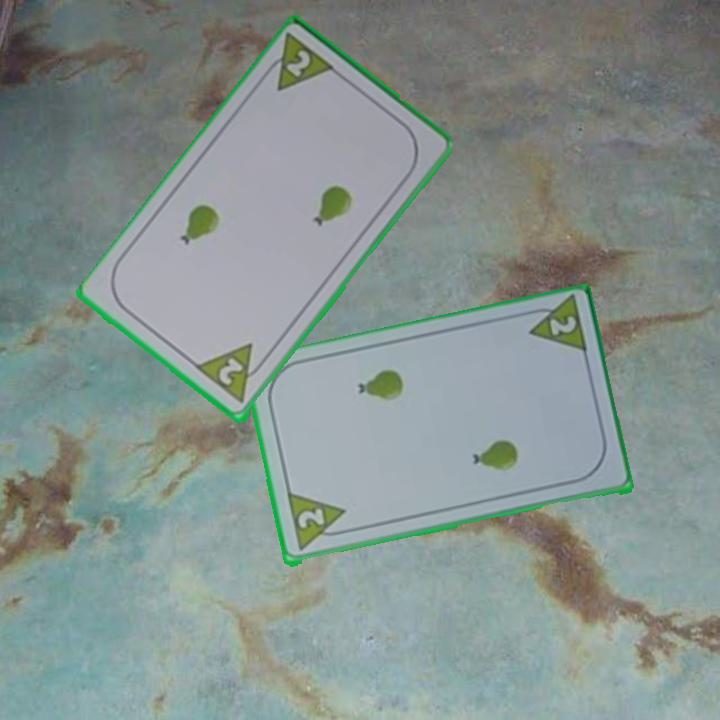2p: (258, 31, 340, 95), (194, 340, 272, 407), (283, 491, 352, 554), (545, 312, 579, 339)
